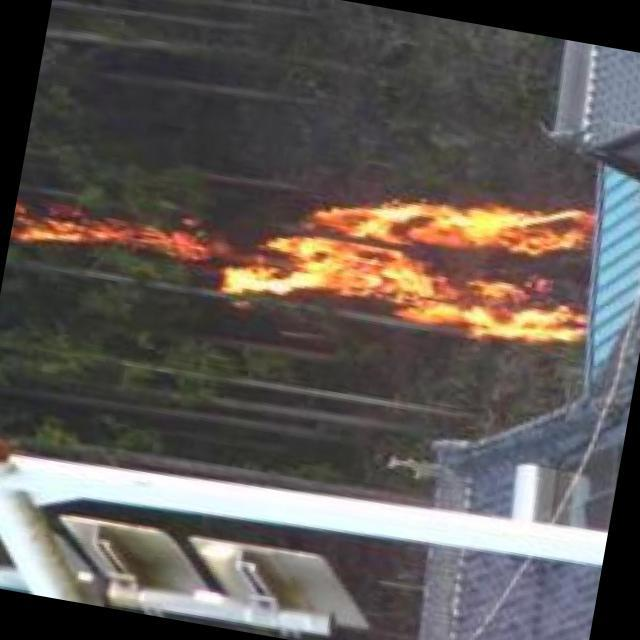Fire: (16, 109, 611, 365)
